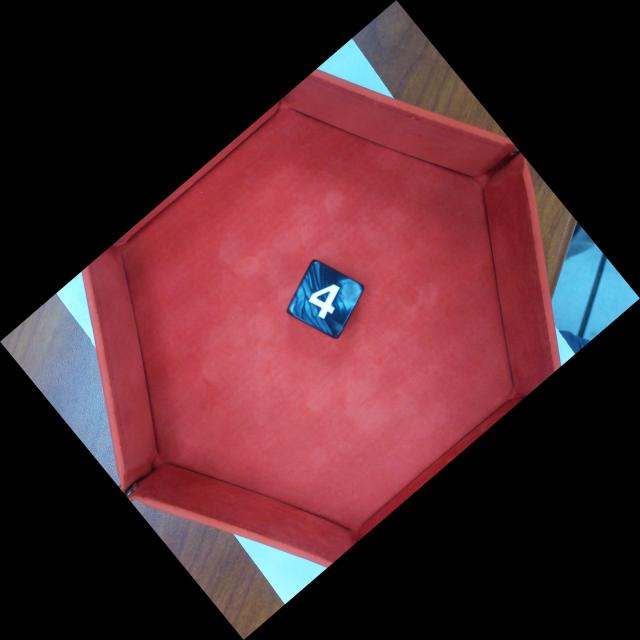dice: (283, 257, 367, 343)
